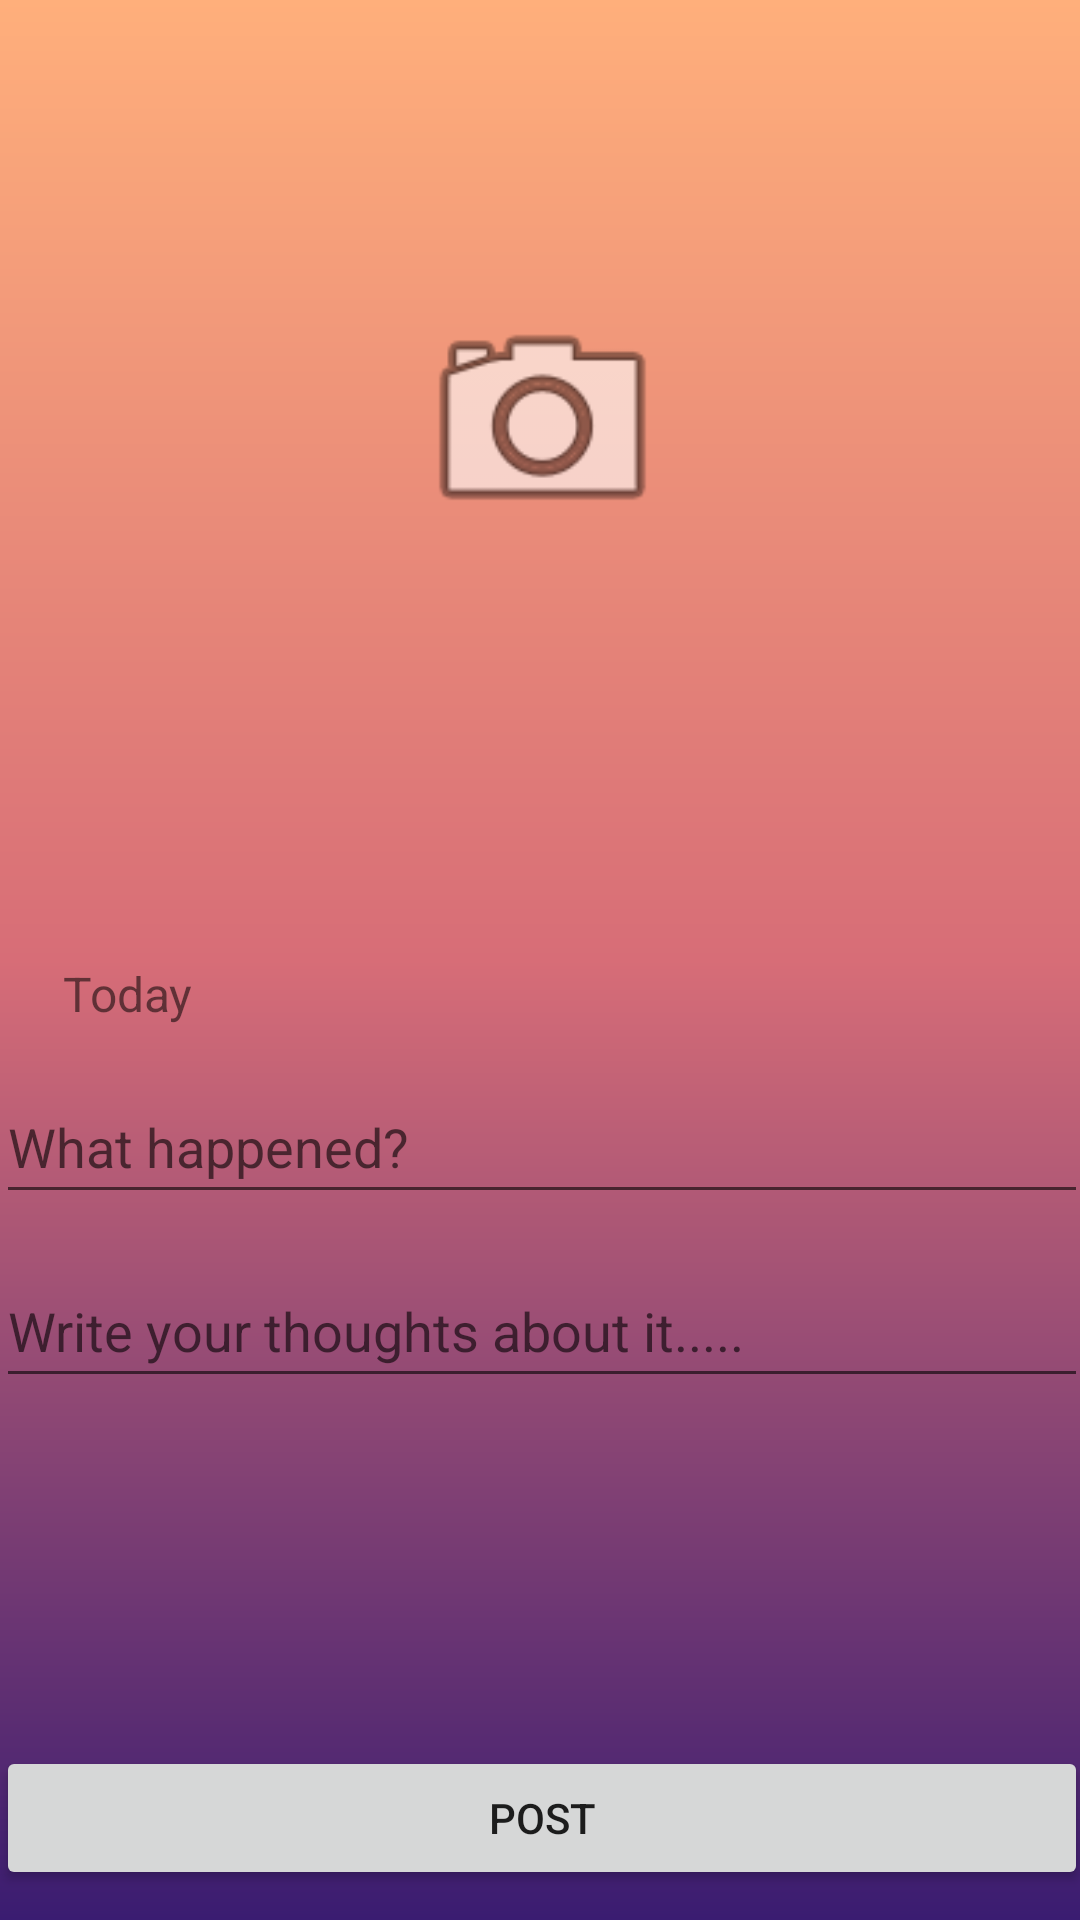

Screen size 1080w x 1920h. Icon name, then its box in pixels as (x1, y1, x2, y2):
camera: (439, 335, 646, 500)
